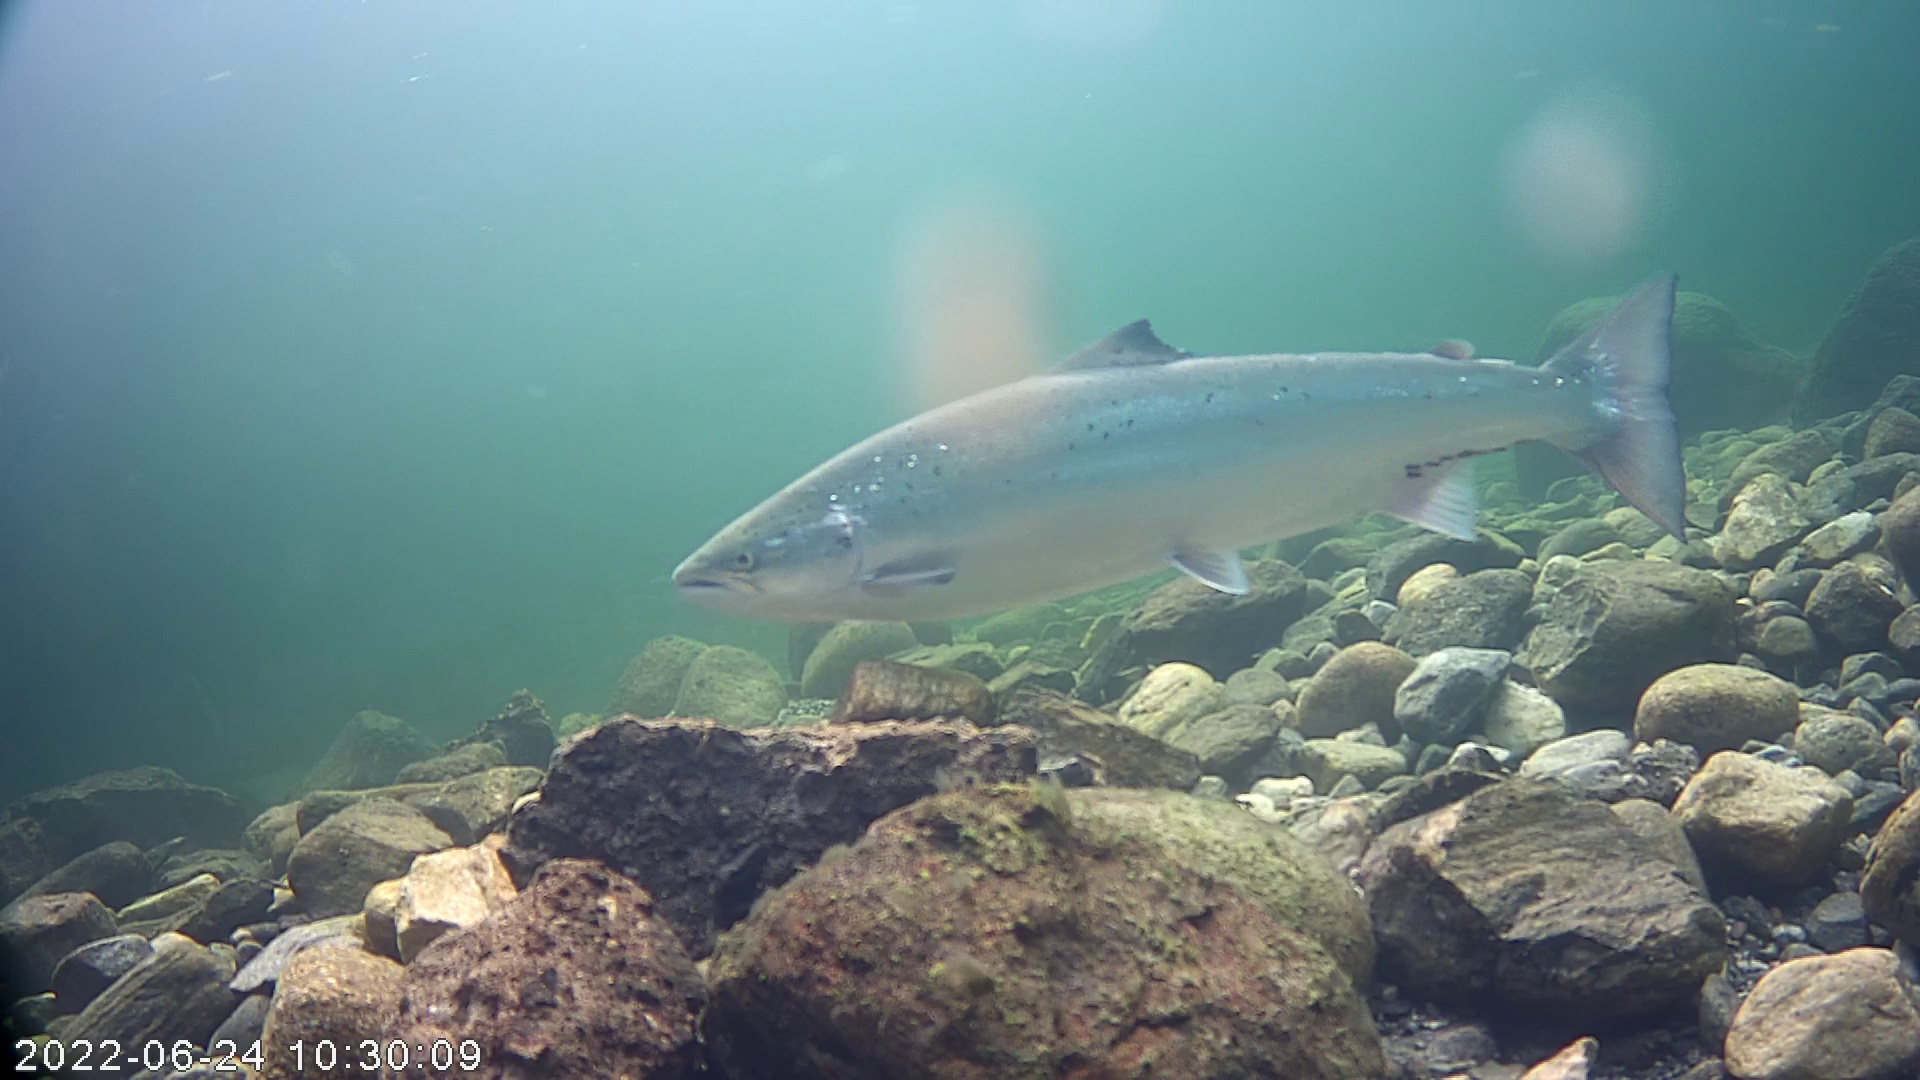salmon: (667, 268, 1695, 626)
